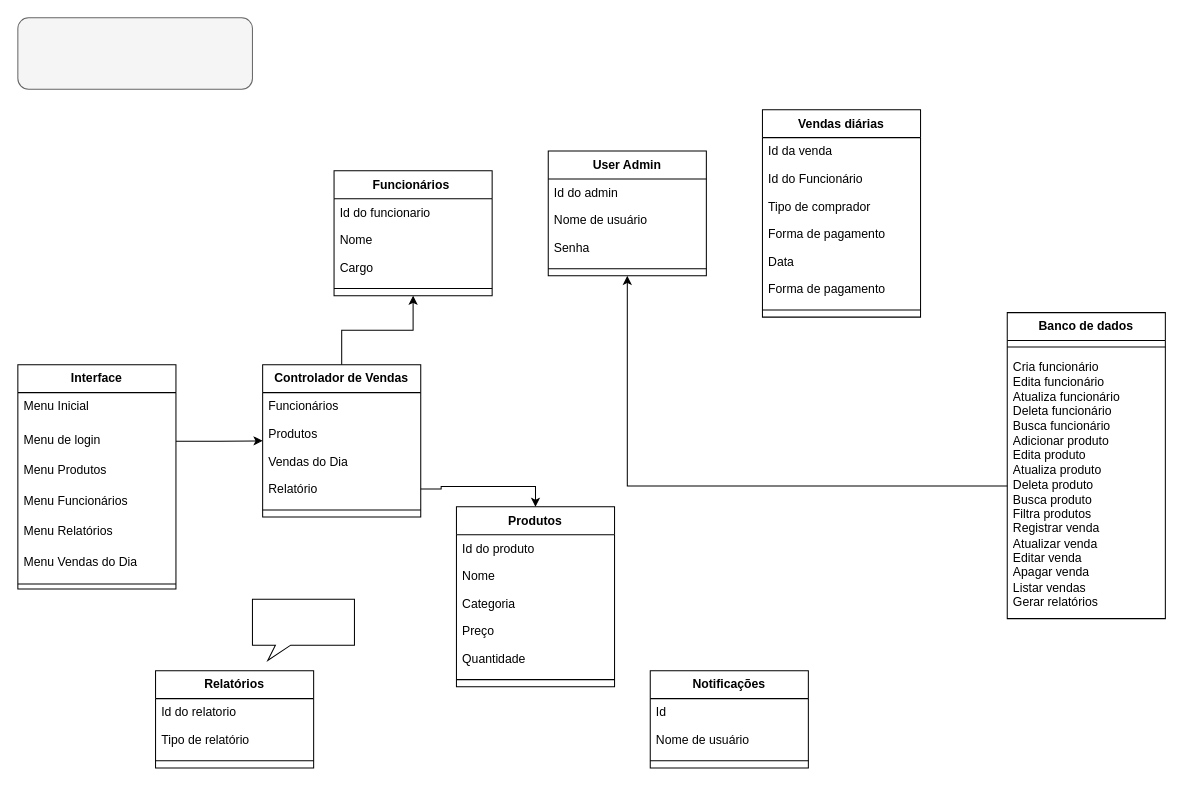
This 1183x786 diagram has some shape labels left out. Each missing label, with the centre of its shape:
"Modelo conceitual" belongs at (134,53).
"Relatórios seria uma tabela?" belongs at (302,629).
